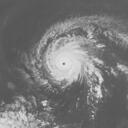cyclone: (31, 16, 108, 101)
